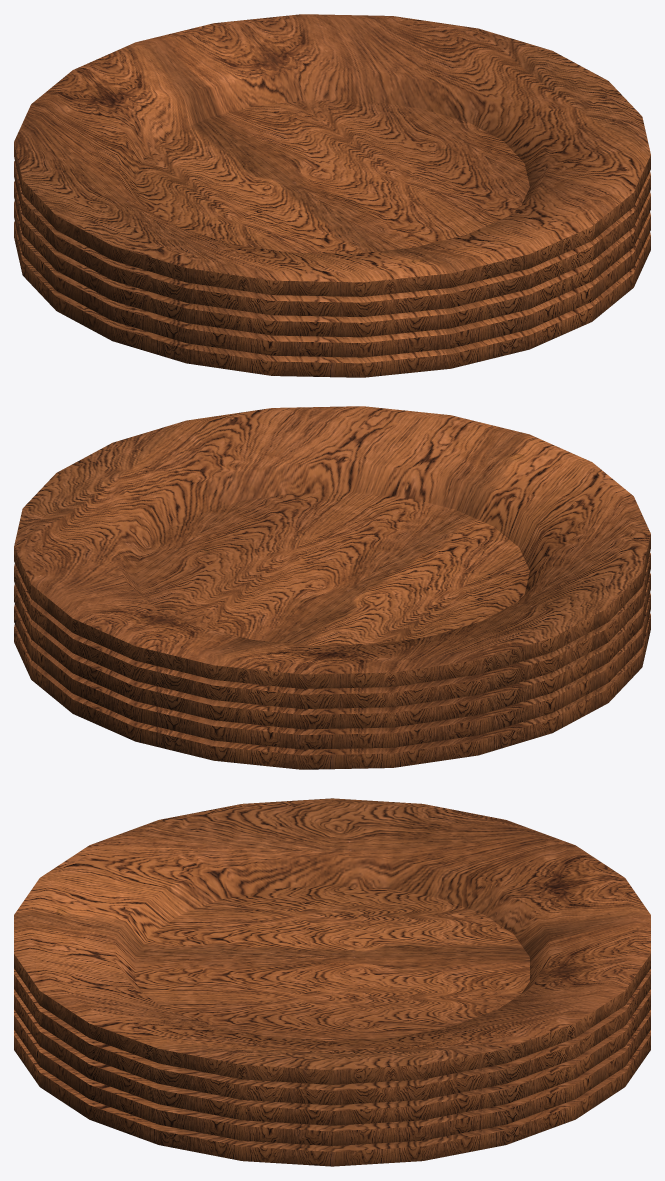
Rendered from mm8_deco_woodplates.glb.
3 renders of one model, top to bottom at view 1: azimuth 30°, elevation 25°; view 2: azimuth 150°, elevation 25°; view 3: azimuth 270°, elevation 25°, orthographic.
Parts seen in each view (by area): view 1: Woodplates; view 2: Woodplates; view 3: Woodplates.
Part boxes in pixels (x1=…): Woodplates: x1=14, y1=14, x2=650, y2=377; Woodplates: x1=14, y1=406, x2=650, y2=769; Woodplates: x1=14, y1=798, x2=650, y2=1166.
Size of the model in its own units: 0.24 by 0.0552 by 0.2376.
1 material, 1 textured.
